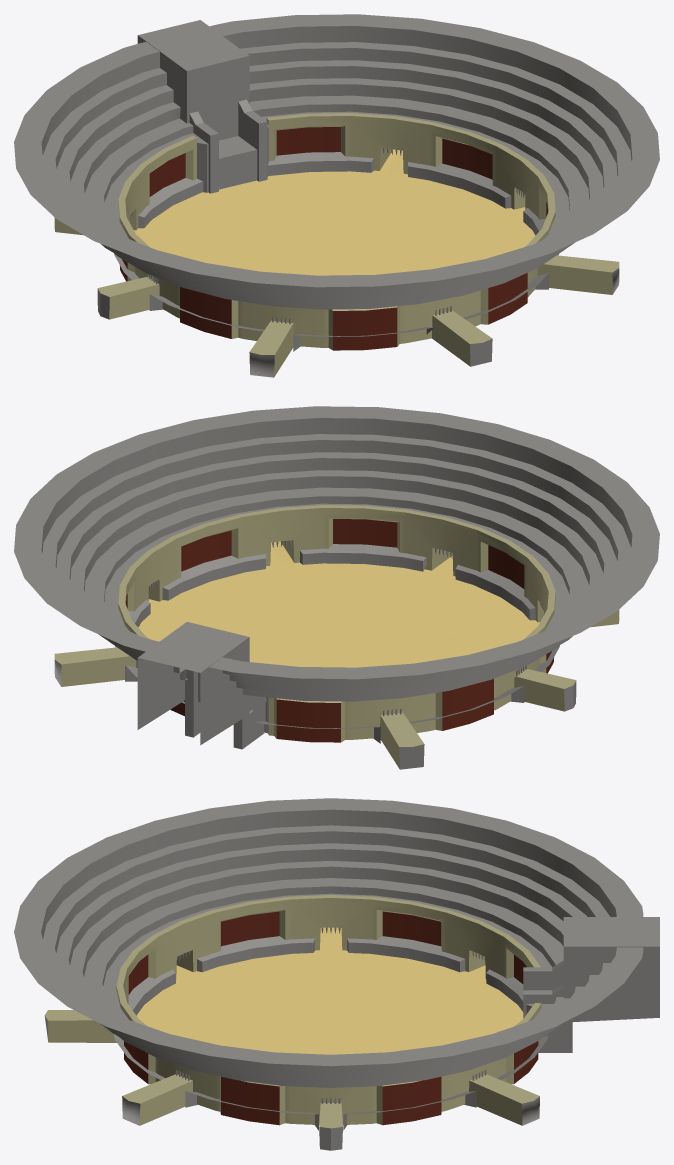
Rendered from colosseum.fbx.
3 views of the same model, one above another, from view 1: azimuth 30°, elevation 25°; view 2: azimuth 150°, elevation 25°; view 3: azimuth 270°, elevation 25° (orthographic). The views are drawn at different scales.
Parts seen in each view (by area): view 1: colosseum; view 2: colosseum; view 3: colosseum.
Part boxes in pixels (x1,y1,x2,y2): colosseum: (14,14,659,377); colosseum: (14,406,659,769); colosseum: (14,798,659,1150).
Size of the model in its own units: 2557 by 479 by 2604.
